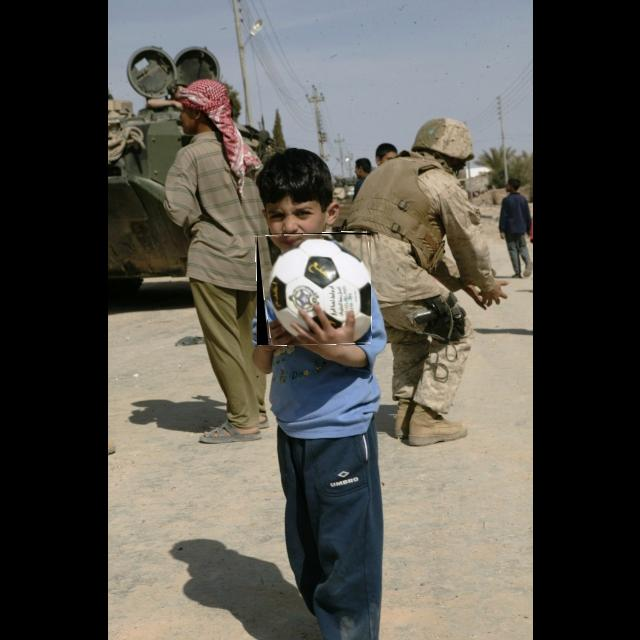Football: (257, 233, 371, 345)
